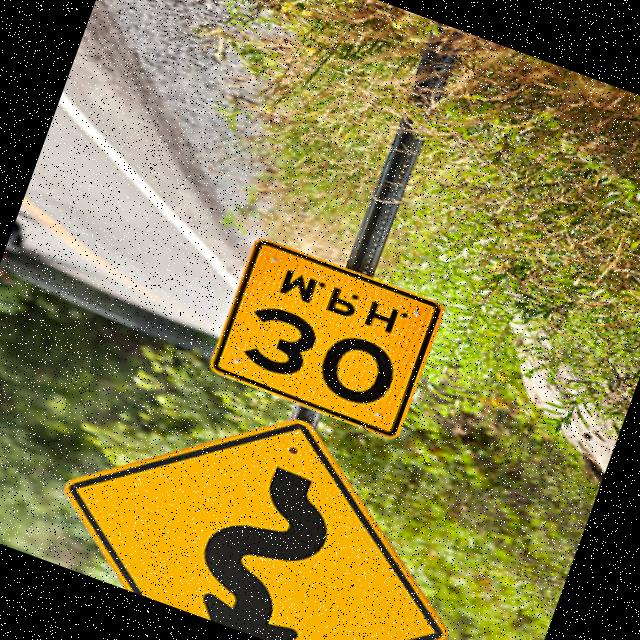left_sharp_curve: (18, 338, 527, 640)
